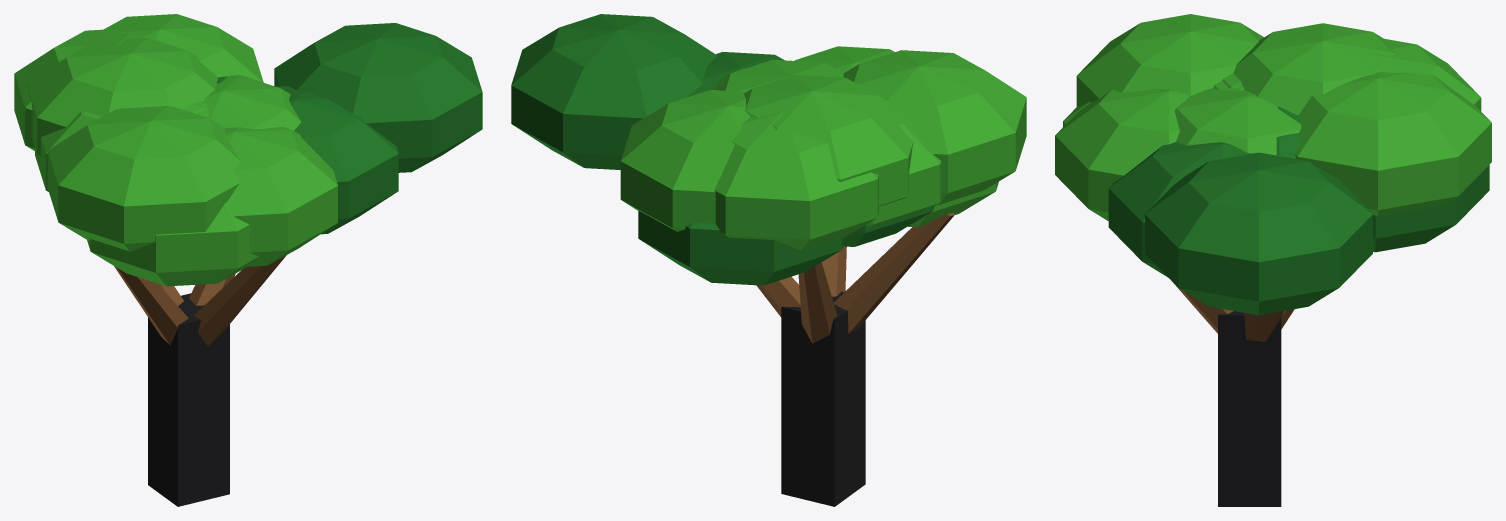
The model's file is env_kb_rain_tree.fbx.
The picture shows the model from 3 angles, left to right: view 1: azimuth 30°, elevation 25°; view 2: azimuth 150°, elevation 25°; view 3: azimuth 270°, elevation 25°; orthographic projection. The views are drawn at different scales.
Parts seen in each view (by area): view 1: env_kb_rain_tree_geo_LOD0, COL_env_kb_rain_tree; view 2: env_kb_rain_tree_geo_LOD0, COL_env_kb_rain_tree; view 3: env_kb_rain_tree_geo_LOD0, COL_env_kb_rain_tree.
Part boxes in pixels (left/top/right/bottom): env_kb_rain_tree_geo_LOD0: left=14, top=14, right=482, bottom=346; COL_env_kb_rain_tree: left=148, top=293, right=229, bottom=506; env_kb_rain_tree_geo_LOD0: left=511, top=14, right=1026, bottom=343; COL_env_kb_rain_tree: left=781, top=291, right=865, bottom=506; env_kb_rain_tree_geo_LOD0: left=1055, top=14, right=1491, bottom=341; COL_env_kb_rain_tree: left=1218, top=311, right=1281, bottom=506.
Size of what is drawn, in the model's own units: 7.72 by 6.9 by 6.2.
